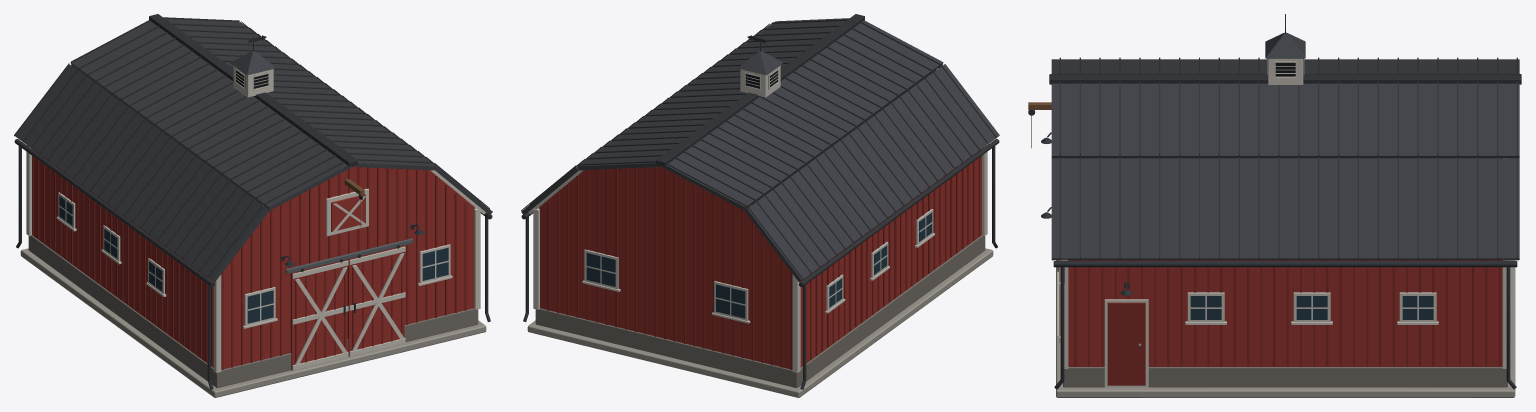
File: bd_barn.glb
3 renders of one model, left to right at view 1: azimuth 30°, elevation 25°; view 2: azimuth 150°, elevation 25°; view 3: azimuth 270°, elevation 25°, orthographic. The views are drawn at different scales.
Parts seen in each view (by area): view 1: prism, prism.001, prism.004, prism.007, block.002, block.001, block.138, block.149, block.125, cyl.001, block.162, block.122 (+14 smaller); view 2: prism, prism.001, prism.004, prism.007, block.002, block.001, block.125, cyl.001, block.121, block.215, block.210, block.123 (+14 smaller); view 3: prism.010, prism.007, prism, block.002, prism.004, block.001, block.125, block.207, cyl.002, block.206, cyl.014, block.192 (+10 smaller).
Part boxes in pixels (<box>): prism: <box>33,150,475,369</box>; prism.001: <box>15,64,268,282</box>; prism.004: <box>70,21,352,210</box>; prism.007: <box>165,18,436,170</box>; block.002: <box>28,235,478,388</box>; block.001: <box>20,248,486,397</box>; block.138: <box>290,259,347,370</box>; block.149: <box>347,245,404,356</box>; block.125: <box>149,14,357,166</box>; cyl.001: <box>14,139,214,286</box>; block.162: <box>331,194,365,231</box>; block.122: <box>213,274,221,372</box>; prism: <box>538,149,981,369</box>; prism.001: <box>745,64,999,282</box>; prism.004: <box>661,20,943,210</box>; prism.007: <box>577,18,849,170</box>; block.002: <box>535,235,985,387</box>; block.001: <box>527,248,993,397</box>; block.125: <box>656,14,864,166</box>; cyl.001: <box>799,139,999,286</box>; block.121: <box>792,274,800,372</box>; block.215: <box>586,253,615,286</box>; block.210: <box>716,284,745,318</box>; block.123: <box>533,207,539,309</box>; prism.010: <box>1051,158,1519,260</box>; prism.007: <box>1051,83,1519,158</box>; prism: <box>1068,260,1502,366</box>; block.002: <box>1063,367,1507,387</box>; prism.004: <box>1051,59,1519,73</box>; block.001: <box>1056,260,1515,397</box>; block.125: <box>1049,74,1521,84</box>; block.207: <box>1107,302,1145,385</box>; cyl.002: <box>1053,261,1517,267</box>; block.206: <box>1104,299,1148,387</box>; cyl.014: <box>1265,32,1305,58</box>; block.192: <box>1402,296,1433,319</box>.
Size of the model in its own units: 8.89 by 7.65 by 11.18.
